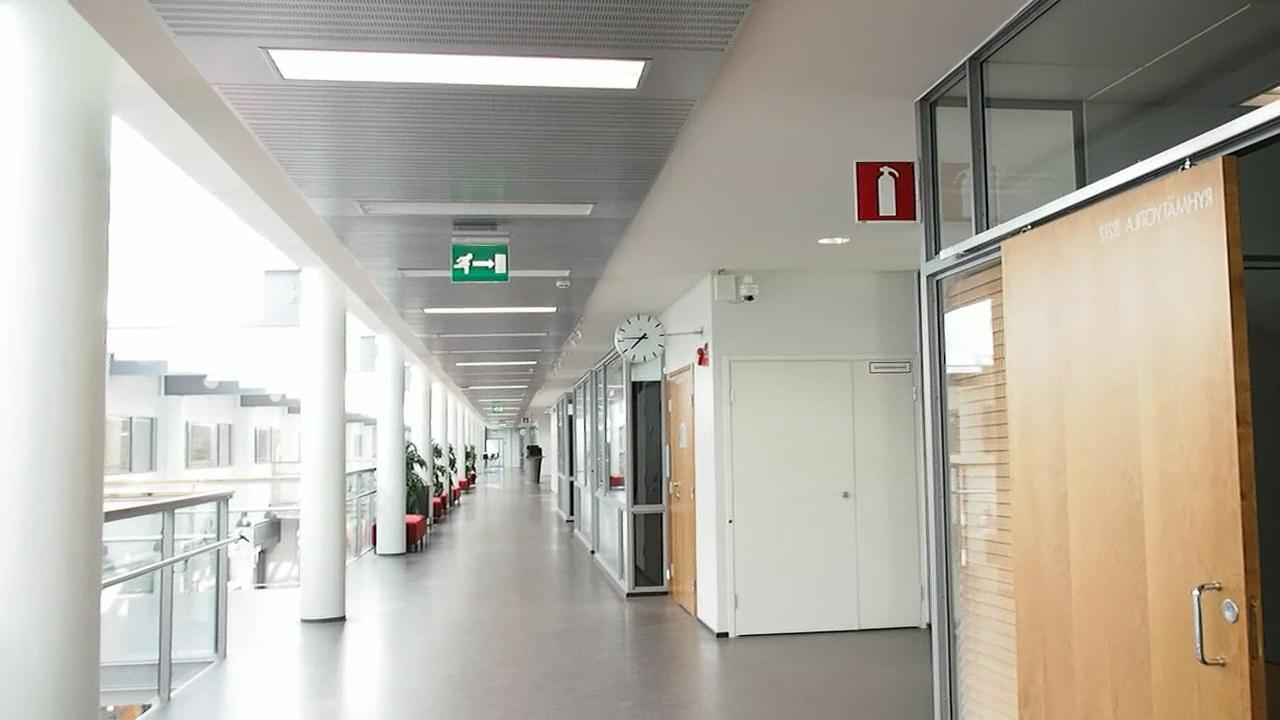clock: (612, 307, 672, 369)
exit: (445, 242, 511, 284)
fireextinguisher: (857, 156, 921, 222)
